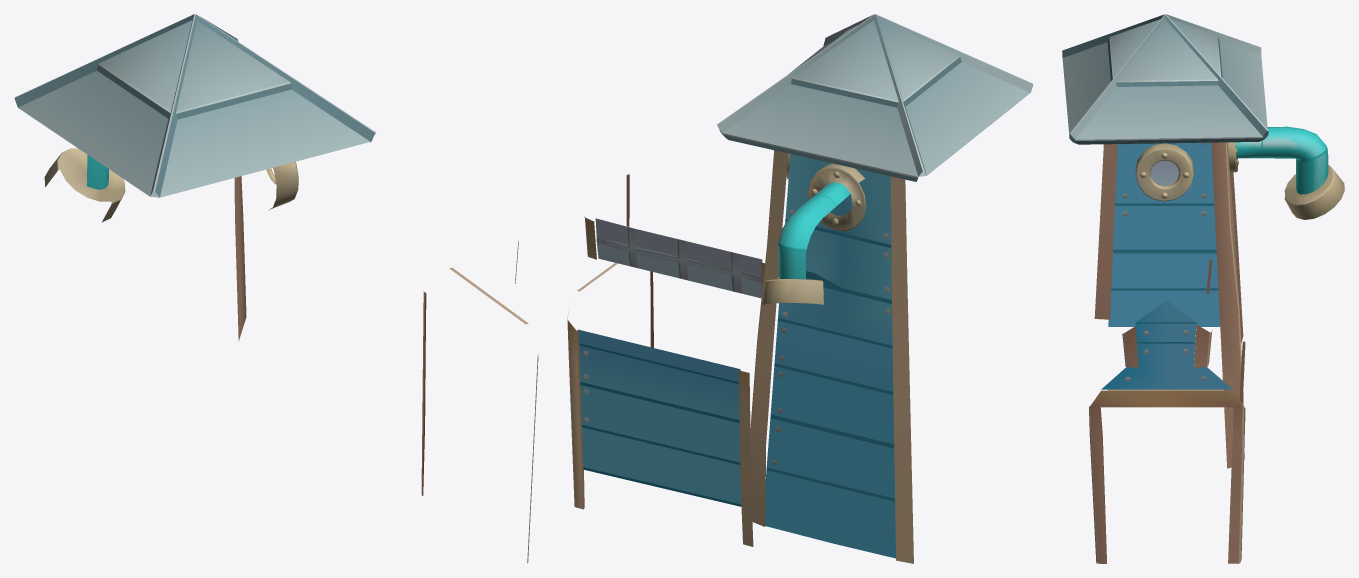
File: ExchangePlanksNew.glb
The picture shows the model from 3 angles, left to right: view 1: azimuth 30°, elevation 25°; view 2: azimuth 150°, elevation 25°; view 3: azimuth 270°, elevation 25°; orthographic projection. The views are drawn at different scales.
Visible parts, largest first — view 1: ExchangePlanksNew; view 2: ExchangePlanksNew; view 3: ExchangePlanksNew.
Boxes of the visible parts, x1=… form: ExchangePlanksNew: x1=14, y1=14, x2=538, y2=563; ExchangePlanksNew: x1=567, y1=14, x2=1033, y2=563; ExchangePlanksNew: x1=1062, y1=14, x2=1344, y2=563.
Size of the model in its own units: 4.27 by 5.76 by 3.33.
